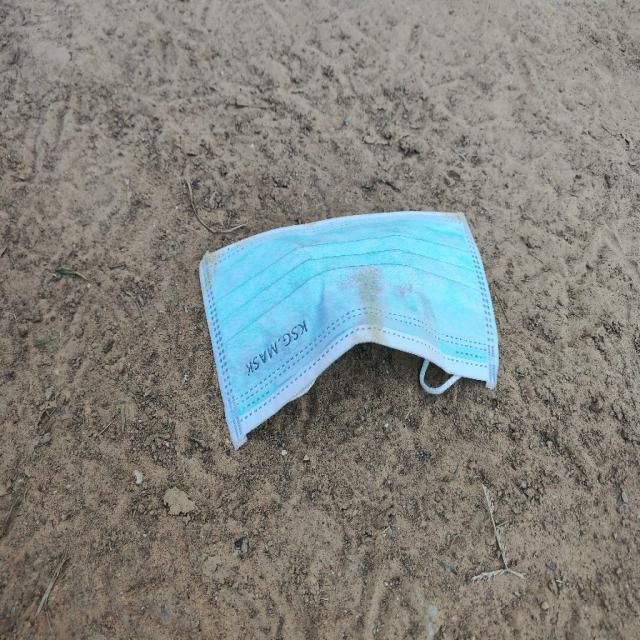face mask: (198, 214, 500, 445)
